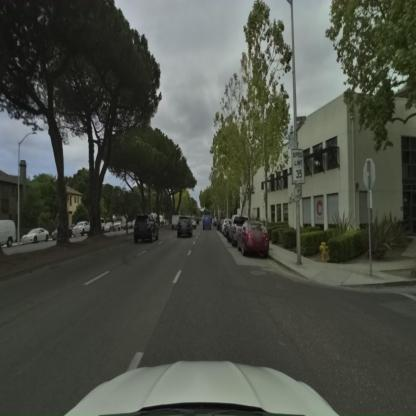car: (239, 221, 271, 257), (134, 214, 159, 242), (0, 221, 16, 249), (232, 216, 247, 245), (21, 228, 49, 243), (176, 216, 191, 237), (72, 222, 90, 238), (220, 219, 232, 237), (202, 216, 212, 230)
fire hydrant: (319, 242, 329, 263)
sign: (290, 144, 307, 189)
stop sign: (362, 159, 376, 190)
